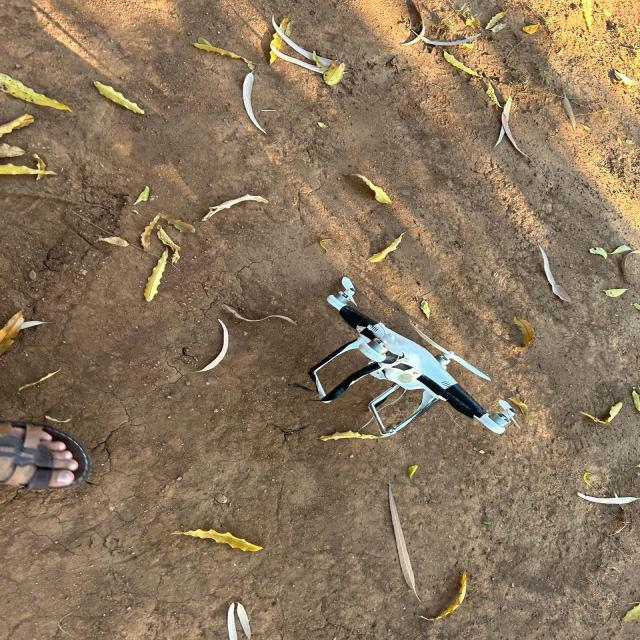drone: (145, 202, 637, 498)
